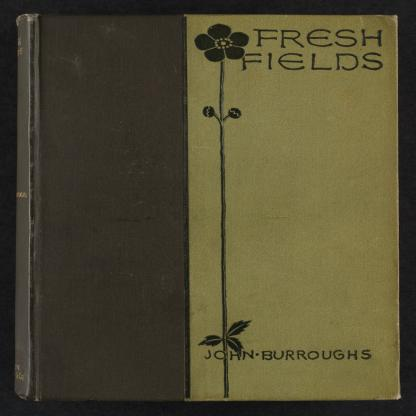book: (14, 13, 400, 402)
